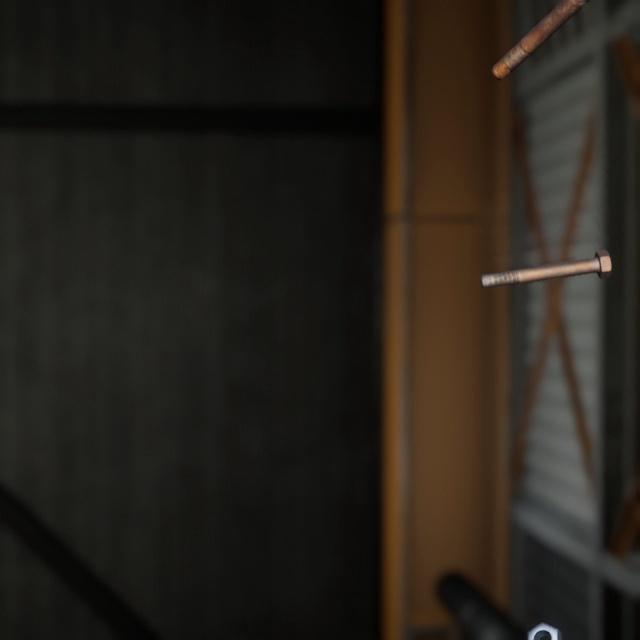bolt: (487, 0, 585, 75), (475, 228, 616, 276)
nut: (523, 594, 566, 640)
